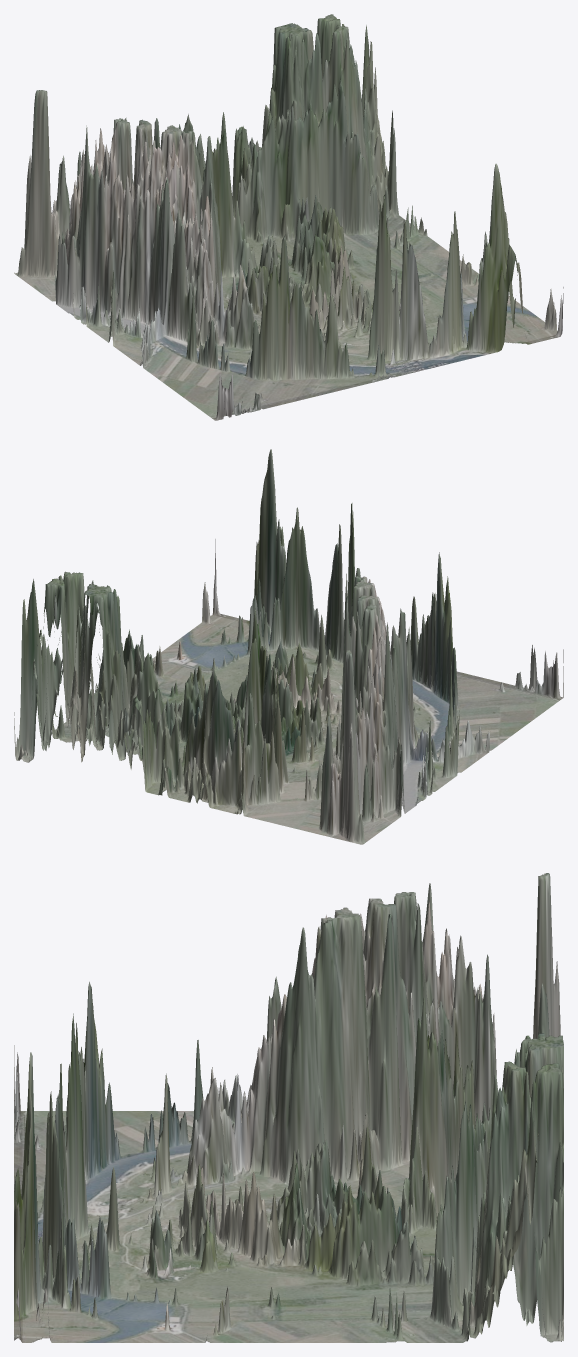
The model's file is dsm_e95bcedb6a_mesh.glb.
3 views of the same model, one above another, from view 1: azimuth 30°, elevation 25°; view 2: azimuth 150°, elevation 25°; view 3: azimuth 270°, elevation 25° (orthographic). The views are drawn at different scales.
Visible parts, largest first — view 1: geometry_0; view 2: geometry_0; view 3: geometry_0.
Part boxes in pixels (<box>): geometry_0: <box>14,14,563,420</box>; geometry_0: <box>14,449,563,844</box>; geometry_0: <box>14,873,563,1342</box>.
Size of the model in its own units: 2 by 1 by 2.
